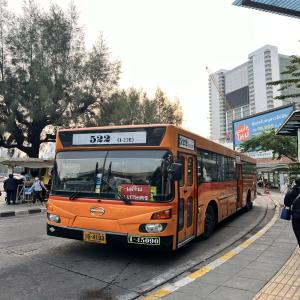BMTA-bus: (45, 124, 258, 253)
Bus Line Number: (83, 131, 136, 145)
Bus Side Number: (125, 236, 160, 245)
Destination Sign: (120, 185, 150, 201)
